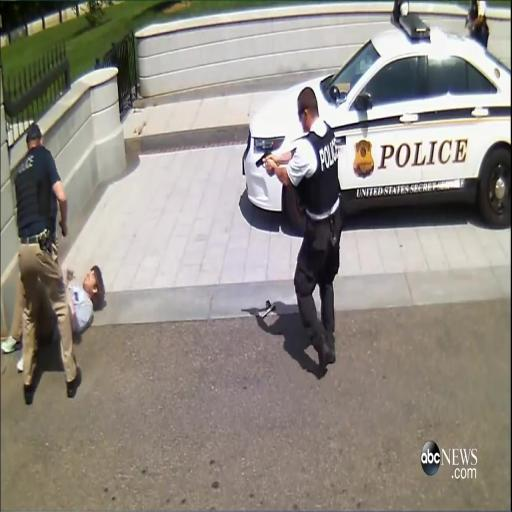Guns: (259, 294, 276, 324), (254, 145, 273, 170)
